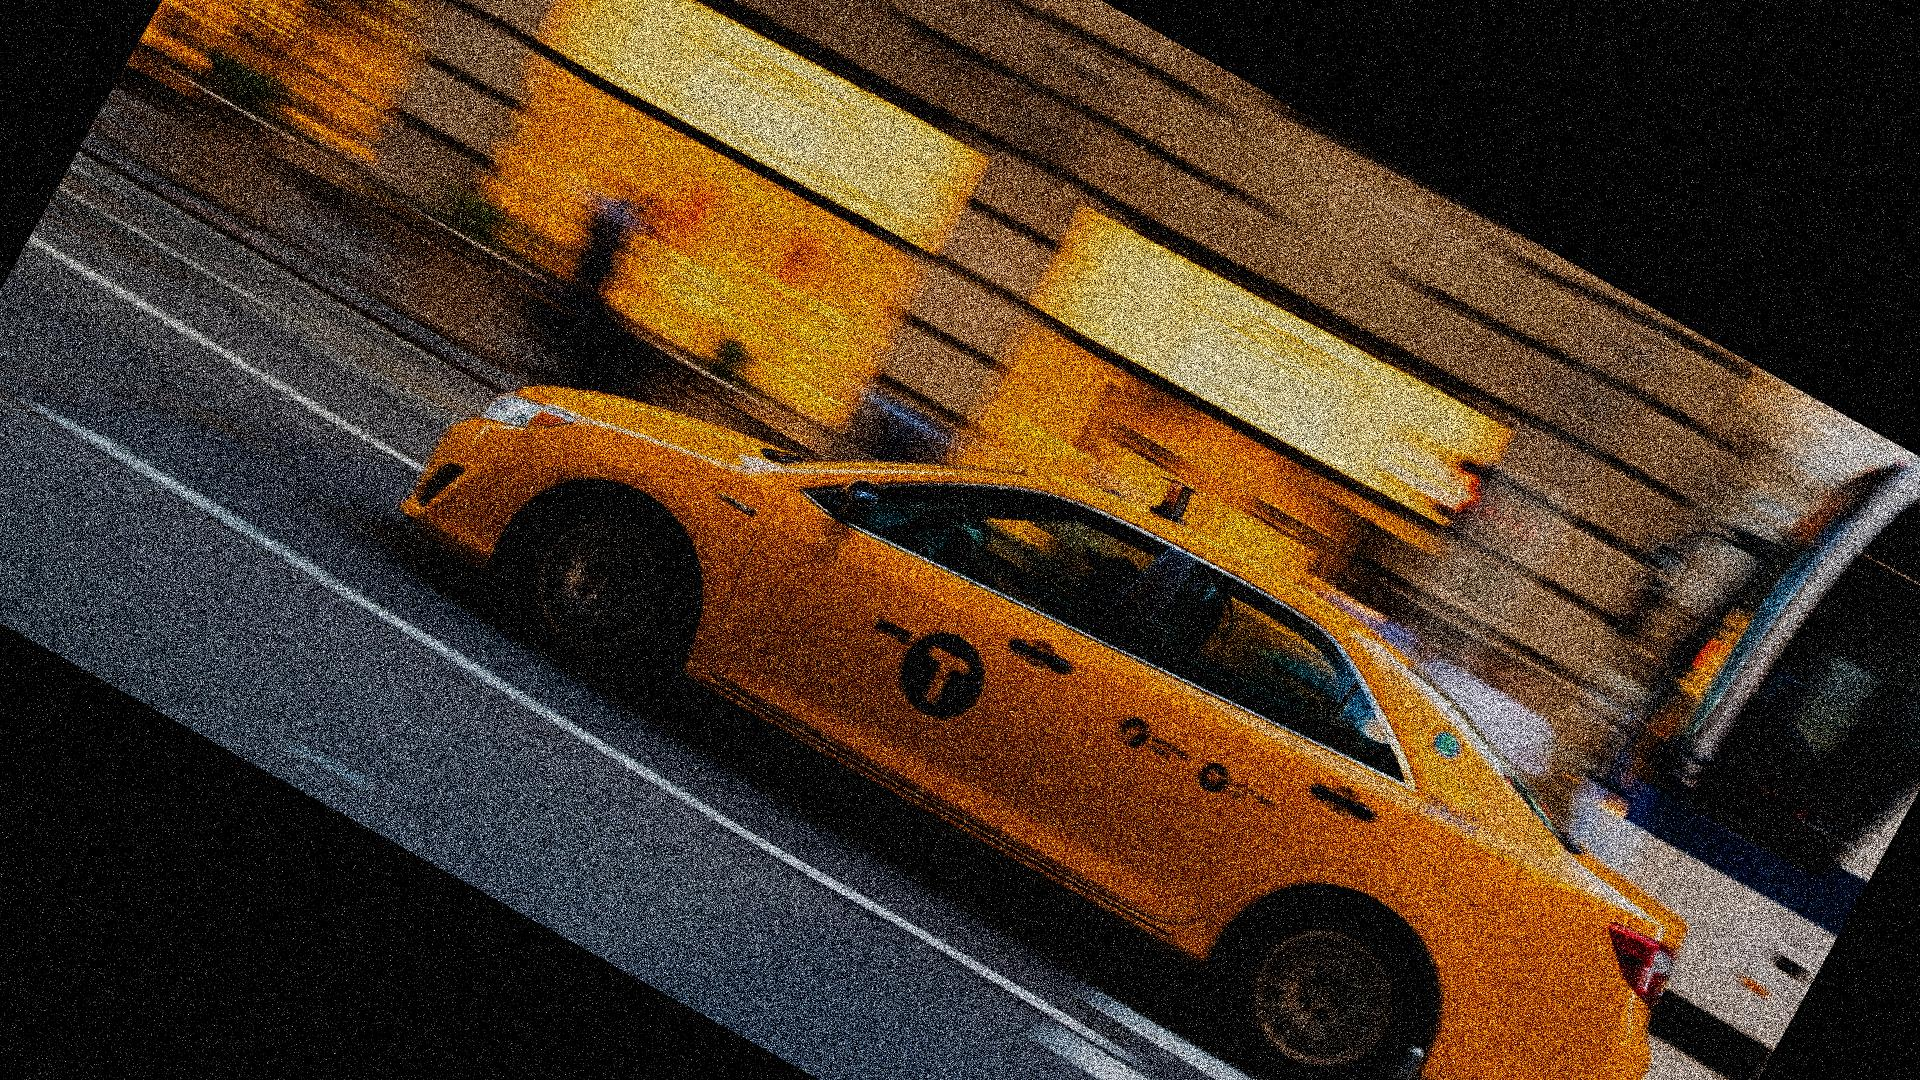taxi: (429, 371, 1658, 1080)
